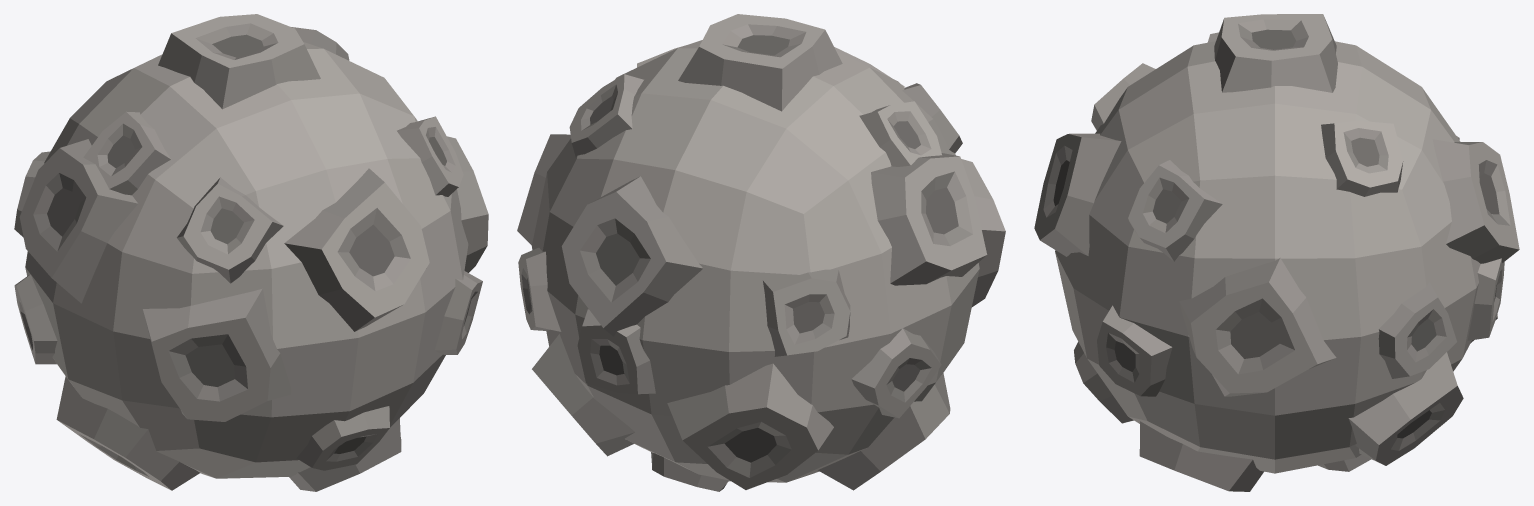
File: SM_Env_Meteor_02.fbx
The picture shows the model from 3 angles, left to right: view 1: azimuth 30°, elevation 25°; view 2: azimuth 150°, elevation 25°; view 3: azimuth 270°, elevation 25°; orthographic projection. The views are drawn at different scales.
Parts seen in each view (by area): view 1: SM_Env_Meteor_02; view 2: SM_Env_Meteor_02; view 3: SM_Env_Meteor_02.
Boxes of the visible parts, left/top/right/bottom form: SM_Env_Meteor_02: left=14, top=14, right=488, bottom=491; SM_Env_Meteor_02: left=517, top=14, right=1005, bottom=491; SM_Env_Meteor_02: left=1034, top=14, right=1519, bottom=491.
Bounding box in the file's own units: 22.06 × 21.47 × 22.13.
